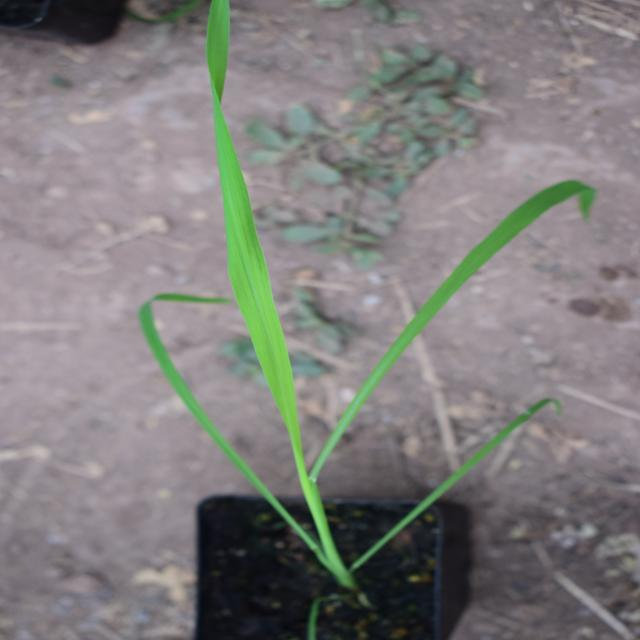barnyard_grass: (16, 101, 619, 573)
